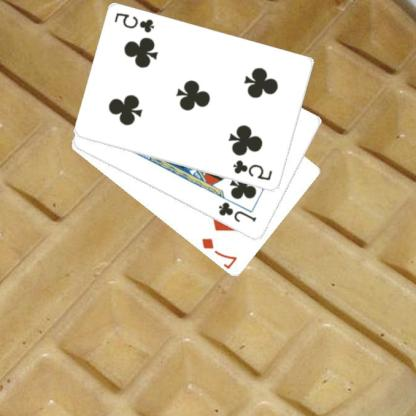5C: (113, 10, 158, 34), (232, 157, 275, 182)
7D: (200, 236, 241, 269)
JC: (217, 199, 260, 224)
